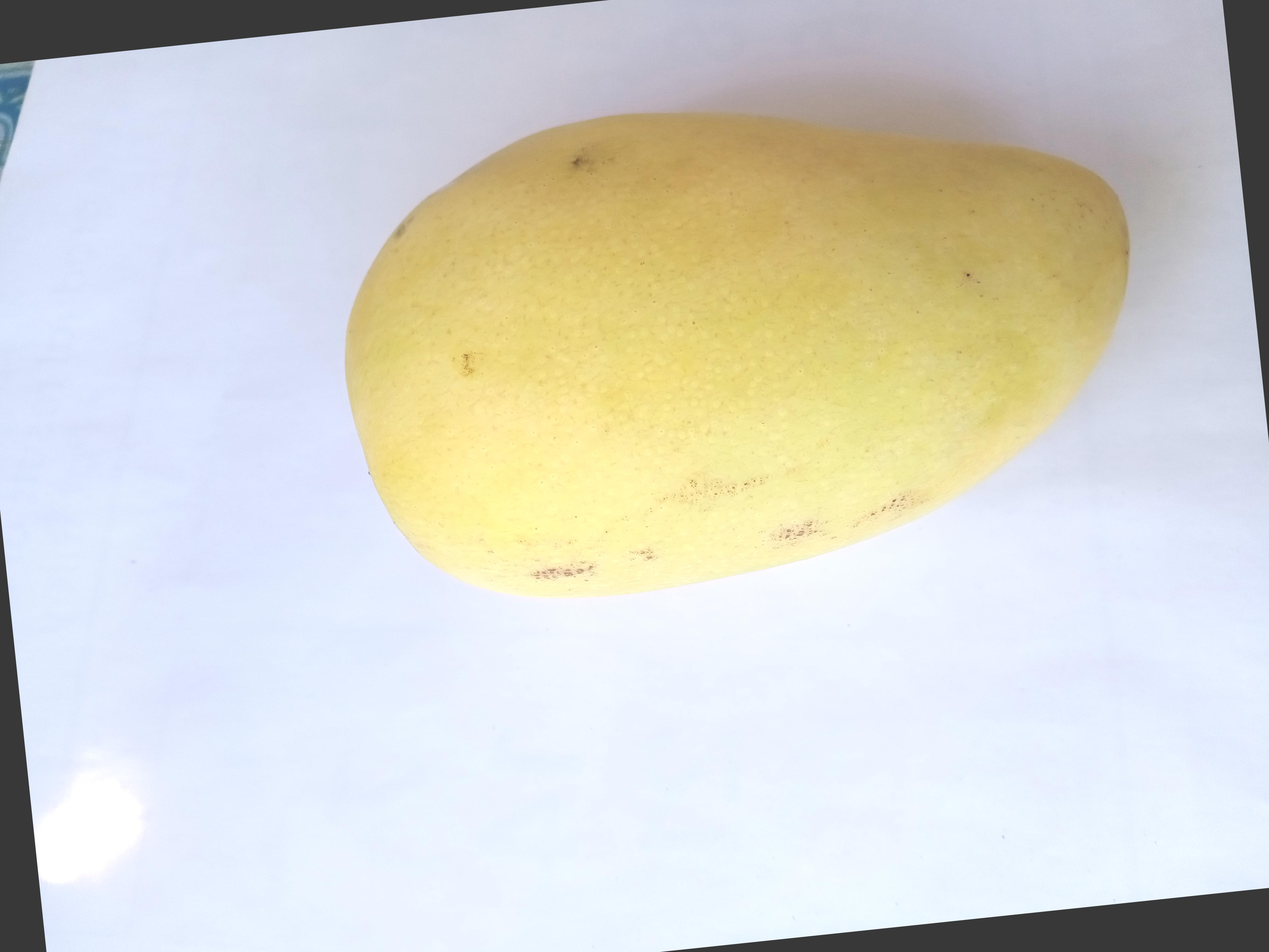Mango Ripe: (234, 95, 1160, 715)
